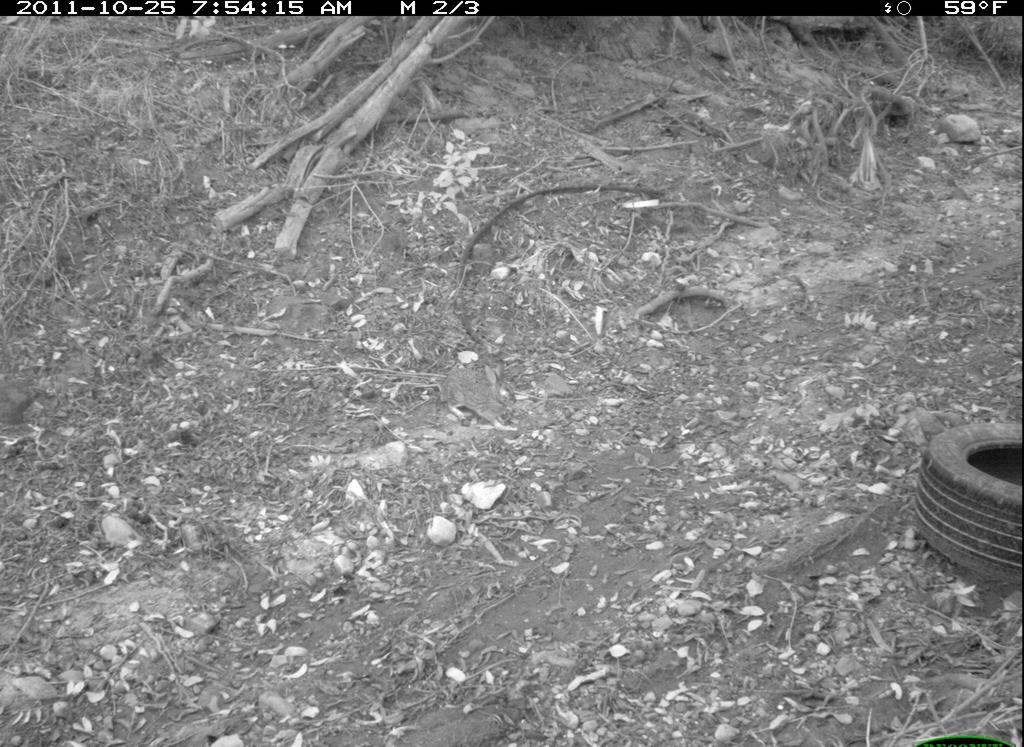rabbit: (425, 349, 534, 434)
